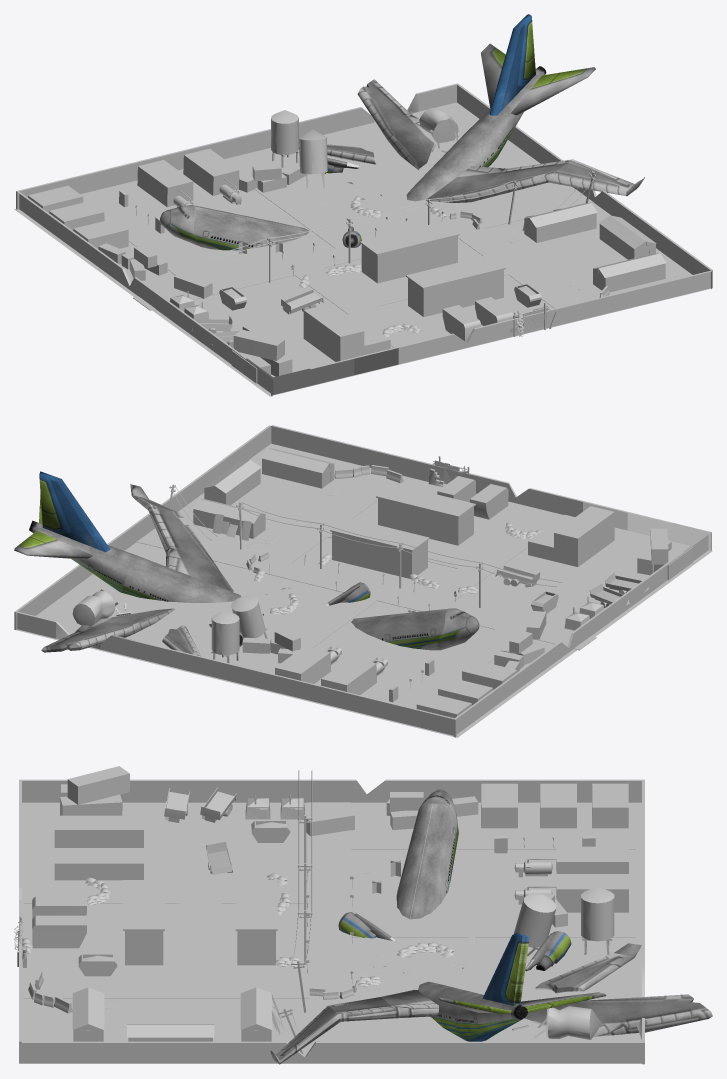
Rendered from FPS Town - Realistic Battlefield.fbx.
The picture shows the model from 3 angles, top to bottom: view 1: azimuth 30°, elevation 25°; view 2: azimuth 150°, elevation 25°; view 3: azimuth 270°, elevation 25°; orthographic projection. The views are drawn at different scales.
Parts seen in each view (by area): view 1: Main, Ground, Plane_Crashed; view 2: Main, Ground, Plane_Crashed; view 3: Main, Ground, Plane_Crashed.
Boxes of the visible parts, x1,y1,x2,y2 form: Main: [16, 83, 712, 396]; Ground: [14, 102, 712, 396]; Plane_Crashed: [160, 14, 644, 250]; Main: [14, 425, 711, 737]; Ground: [16, 443, 712, 737]; Plane_Crashed: [14, 471, 479, 656]; Main: [14, 766, 644, 1064]; Ground: [20, 802, 641, 1063]; Plane_Crashed: [270, 789, 712, 1064].
Bounding box in the file's own units: 13653 × 4148 × 13512.
